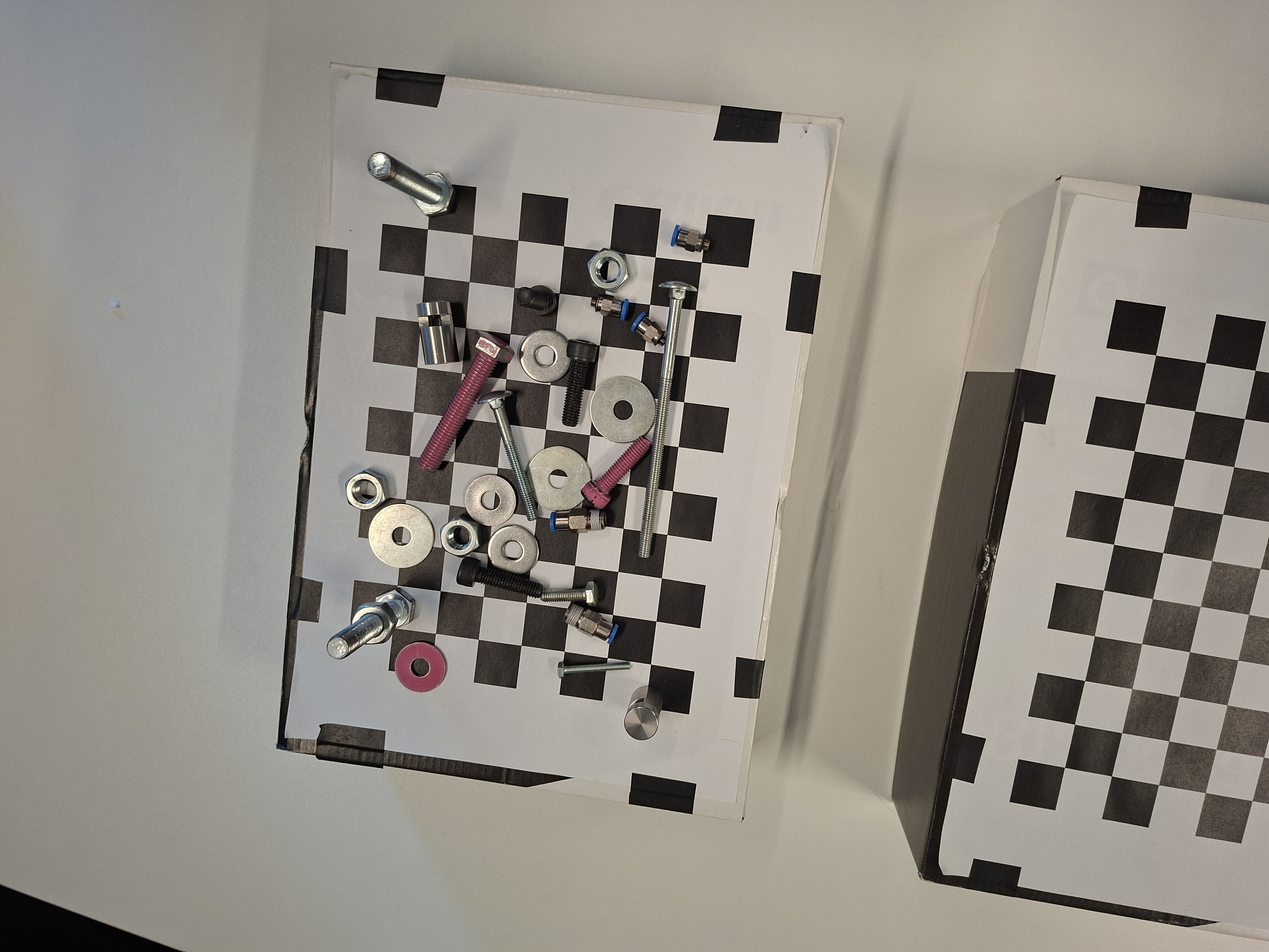allen_screw: (575, 426, 662, 516), (549, 333, 605, 431), (453, 552, 544, 606), (510, 277, 561, 323)
barrel_nut: (409, 293, 464, 369), (615, 676, 671, 746)
carriage_bolt: (619, 274, 703, 568), (474, 383, 551, 526)
hex_bolt: (402, 325, 520, 488), (313, 580, 428, 672), (352, 137, 466, 227), (551, 654, 633, 682), (539, 580, 602, 608)
hex_nut: (573, 238, 644, 303), (335, 460, 397, 521), (429, 508, 492, 567), (349, 596, 400, 651)
pneumatic_fitting: (558, 598, 626, 649), (623, 309, 674, 358), (663, 222, 718, 260), (547, 506, 609, 536), (590, 290, 634, 325)
washer: (576, 363, 669, 457), (362, 494, 443, 577), (517, 440, 598, 519), (476, 514, 551, 589), (388, 633, 461, 701), (457, 468, 521, 530), (515, 326, 579, 385)
